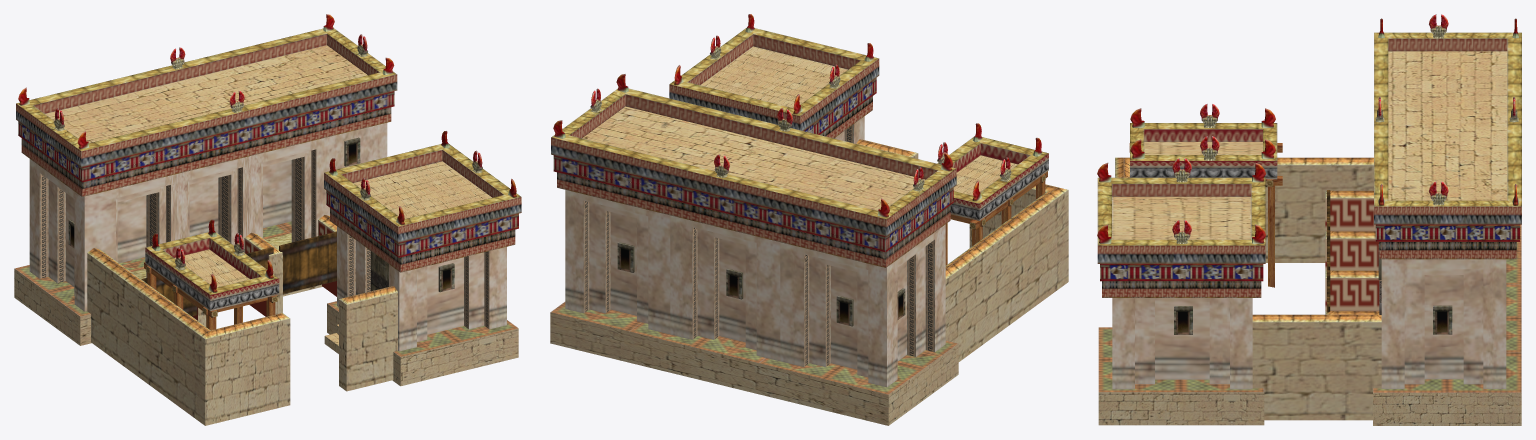
The model's file is stable_camel.dae.
3 renders of one model, left to right at view 1: azimuth 30°, elevation 25°; view 2: azimuth 150°, elevation 25°; view 3: azimuth 270°, elevation 25°, orthographic. The views are drawn at different scales.
Visible parts, largest first — view 1: stable_camel; view 2: stable_camel; view 3: stable_camel.
Part boxes in pixels (bbox=[...]): stable_camel: bbox=[14, 14, 521, 425]; stable_camel: bbox=[550, 14, 1068, 425]; stable_camel: bbox=[1097, 14, 1521, 425].
Bounding box in the file's own units: 18.96 × 19.34 × 12.12.
